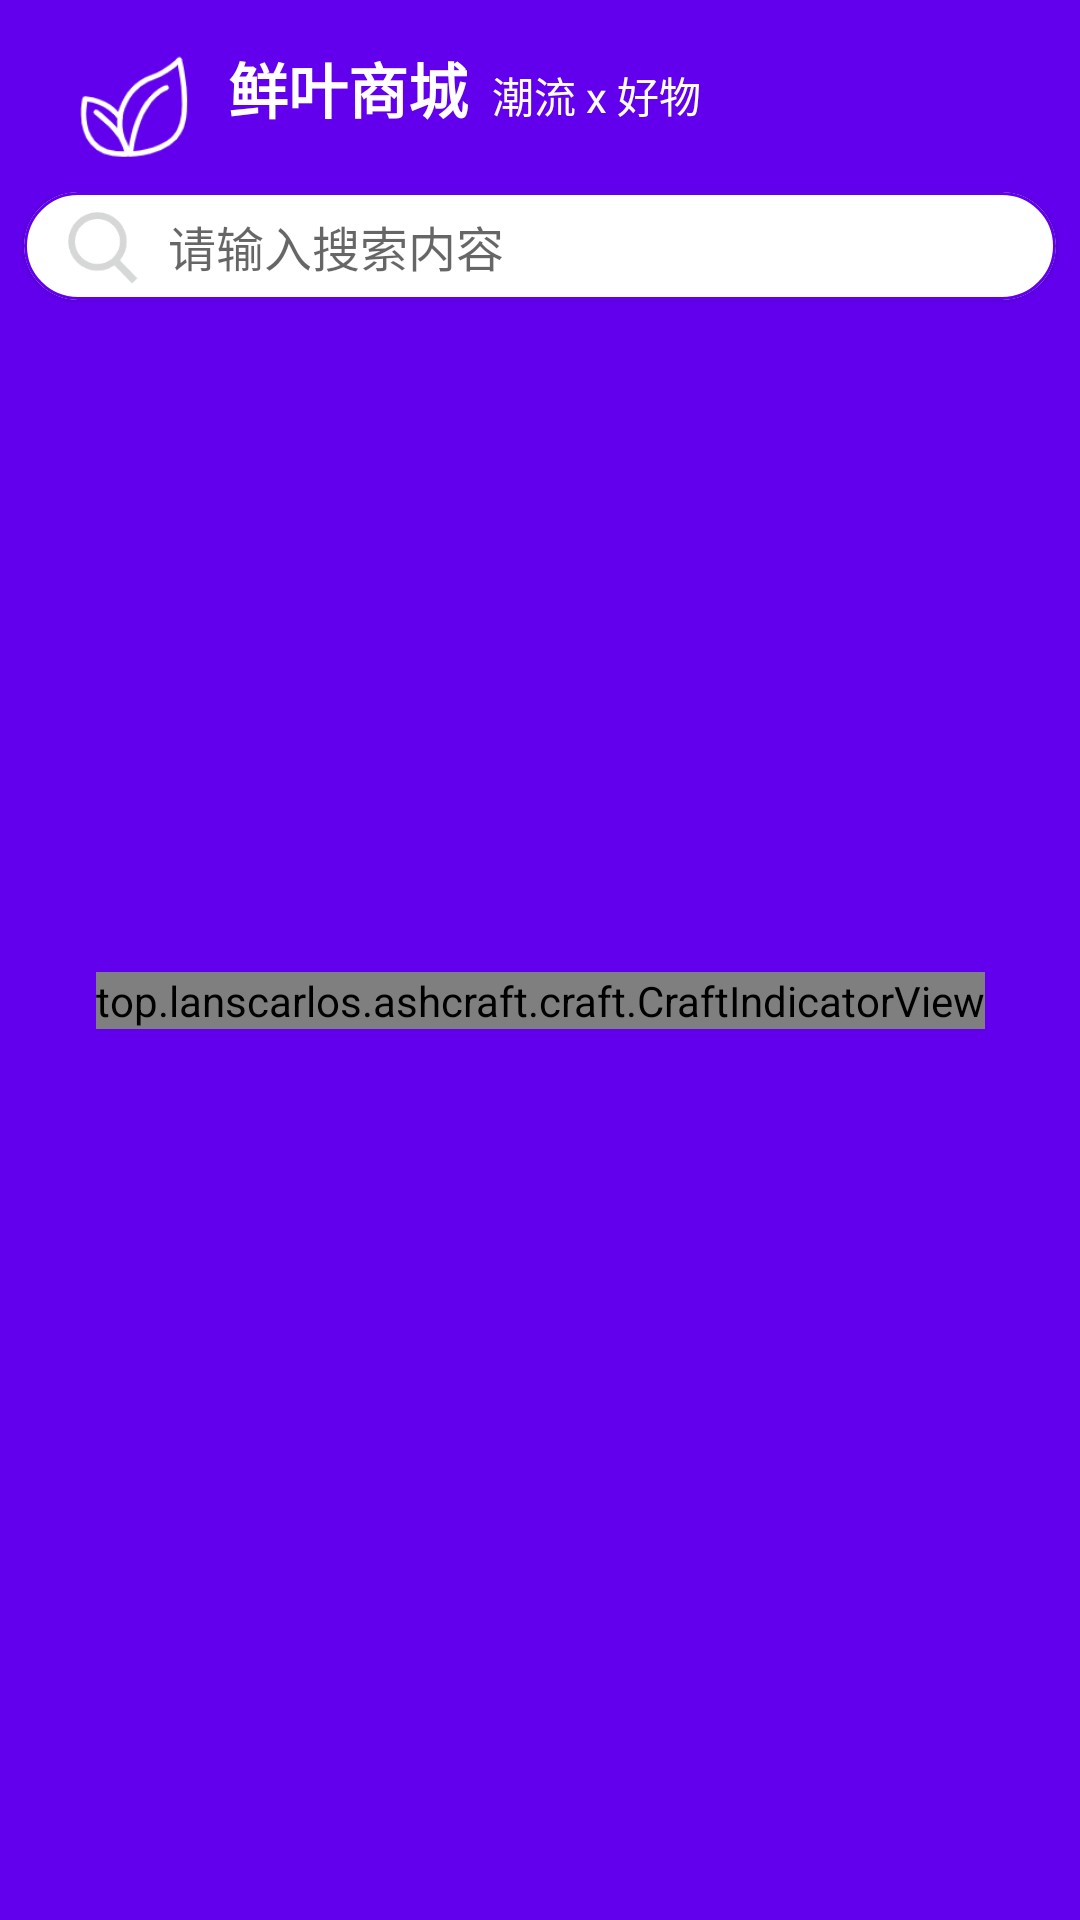

Named icons in this screenshot (1080x1920) and their centers, [x,y]:
bitmap search: [102,246]
